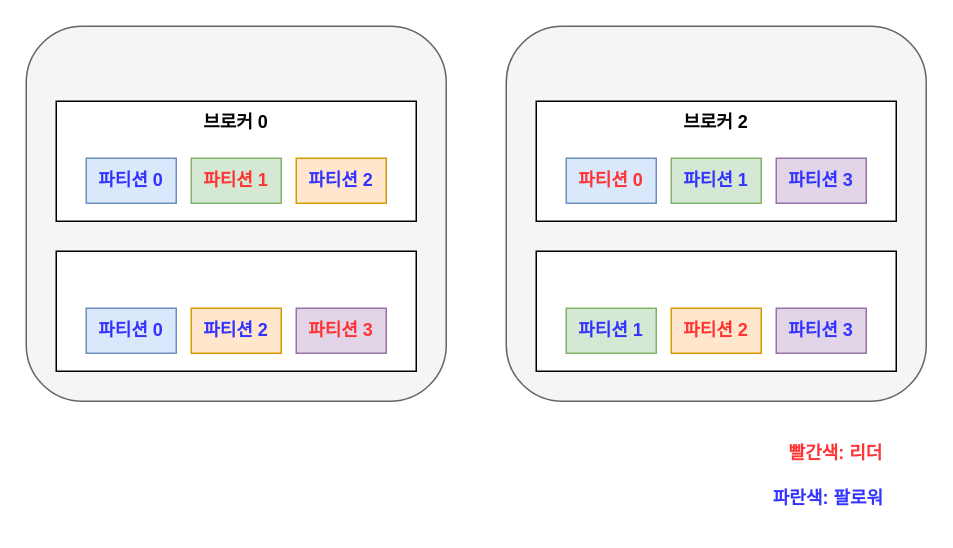
Some shapes in this 953 by 548 pixel diagram are drawn without their labels. Here are the shapes that lost their labels. From the top down, the box of each, then its label:
(25, 25, 446, 401): rack 1
(505, 25, 926, 401): rack 2
(55, 250, 416, 371): 브로커 1
(535, 250, 896, 371): 브로커 3
